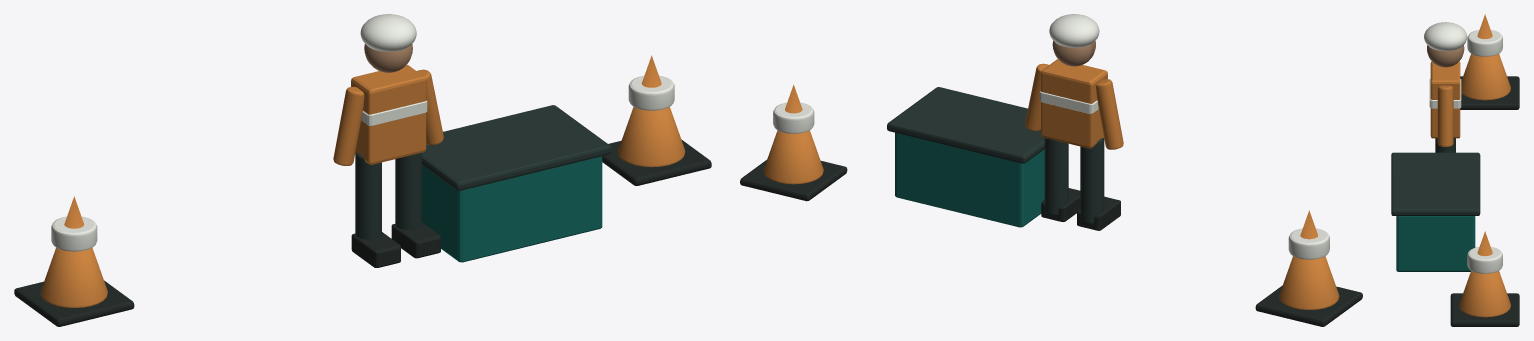
File: equipment.glb
3 views of the same model, side by side, from view 1: azimuth 30°, elevation 25°; view 2: azimuth 150°, elevation 25°; view 3: azimuth 270°, elevation 25° (orthographic). The views are drawn at different scales.
Parts seen in each view (by area): view 1: Safety orange, Powder coated charcoal.003, NouDilo vehicle livery.003, Rubber.003, Truck enamel.003, Worker skin; view 2: Safety orange, Powder coated charcoal.003, NouDilo vehicle livery.003, Rubber.003, Truck enamel.003, Worker skin; view 3: Safety orange, Powder coated charcoal.003, NouDilo vehicle livery.003, Truck enamel.003, Rubber.003, Worker skin.
Part boxes in pixels (box(x1,y1,x2,y2)): Safety orange: box(40, 55, 685, 307); Powder coated charcoal.003: box(355, 105, 611, 239); NouDilo vehicle livery.003: box(422, 156, 602, 262); Rubber.003: box(14, 139, 711, 326); Truck enamel.003: box(51, 14, 674, 251); Worker skin: box(364, 44, 412, 72); Safety orange: box(763, 59, 1339, 309); Powder coated charcoal.003: box(887, 87, 1104, 224); NouDilo vehicle livery.003: box(895, 132, 1044, 227); Rubber.003: box(740, 160, 1362, 326); Truck enamel.003: box(773, 14, 1329, 259); Worker skin: box(1052, 40, 1095, 66); Safety orange: box(1430, 14, 1510, 317); Powder coated charcoal.003: box(1391, 138, 1480, 215); NouDilo vehicle livery.003: box(1396, 216, 1475, 271); Truck enamel.003: box(1424, 22, 1502, 273); Rubber.003: box(1450, 76, 1519, 326); Worker skin: box(1427, 45, 1464, 67).
Bounding box in the file's own units: 5.9 × 2.01 × 1.3.
